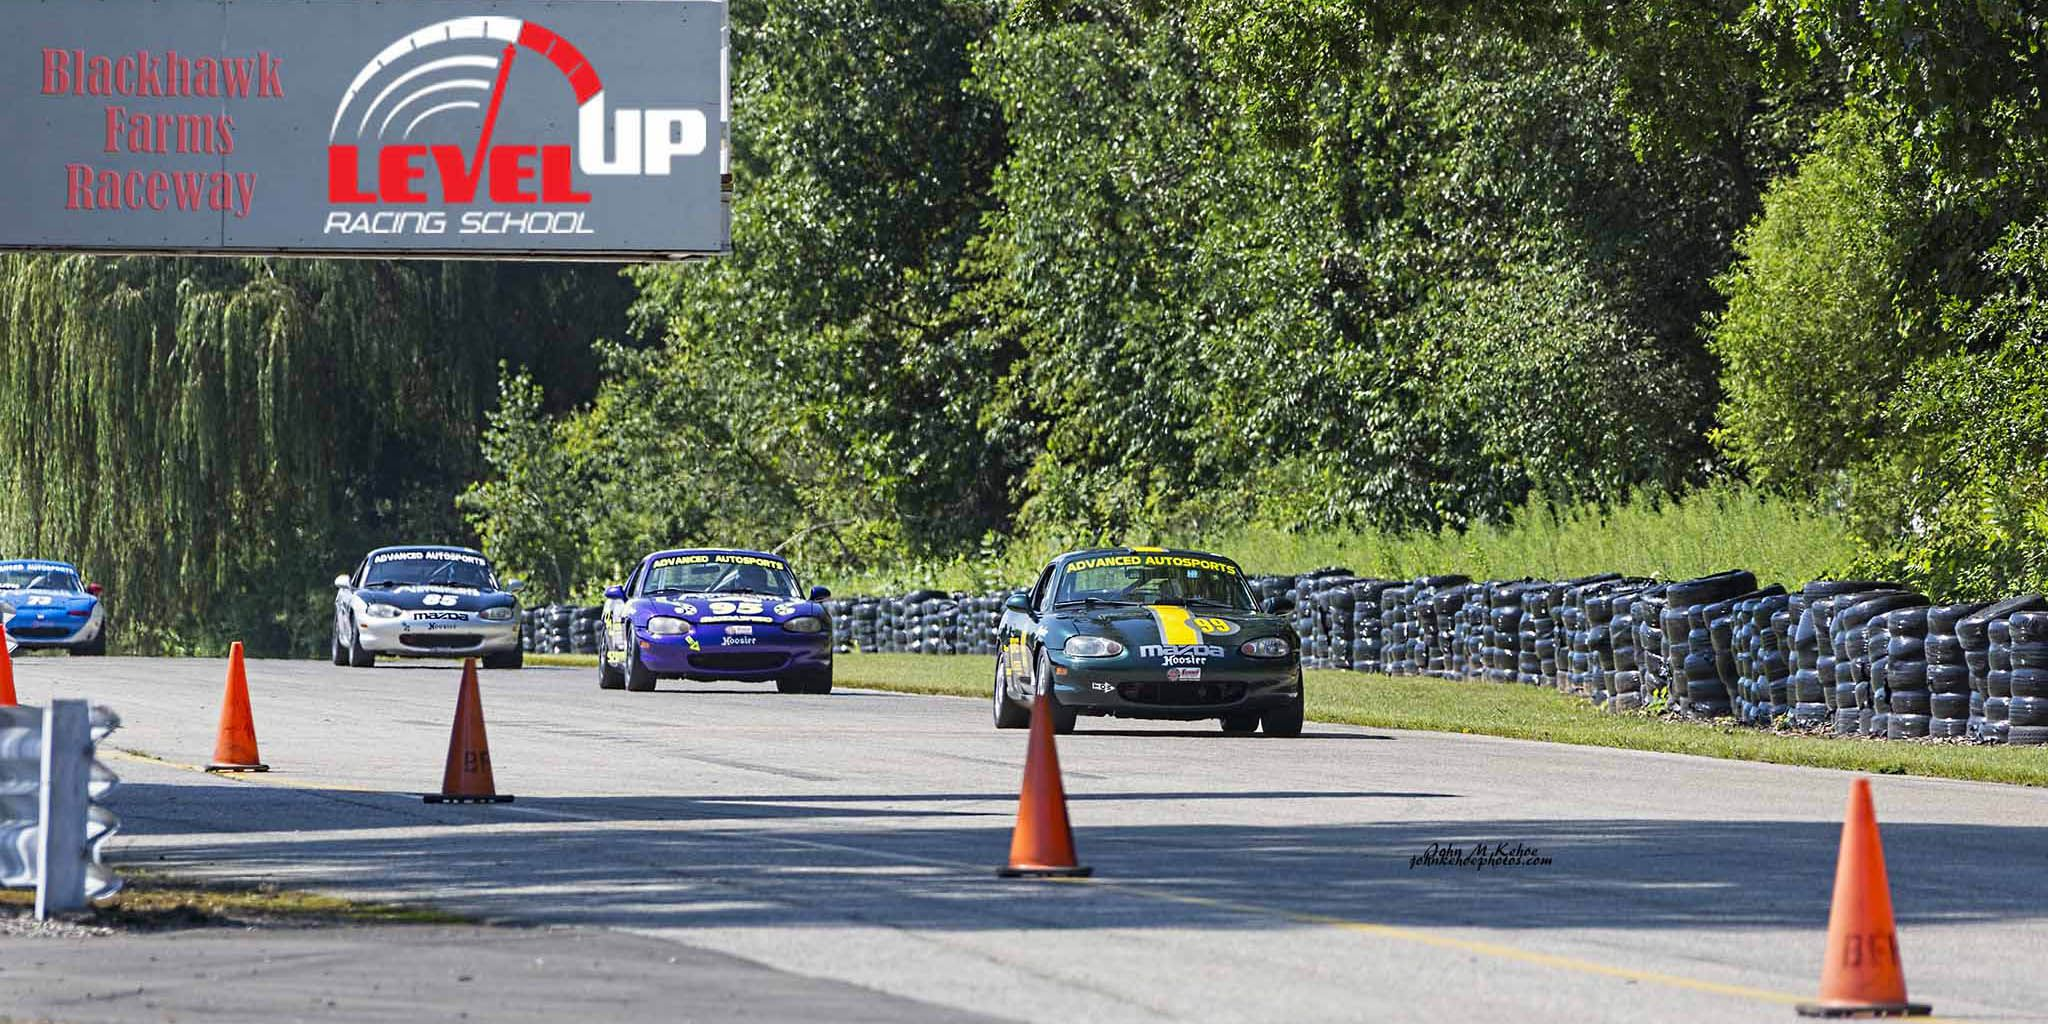cone: (1780, 777, 1947, 1024), (987, 684, 1108, 892), (404, 653, 515, 811), (191, 633, 280, 784)
